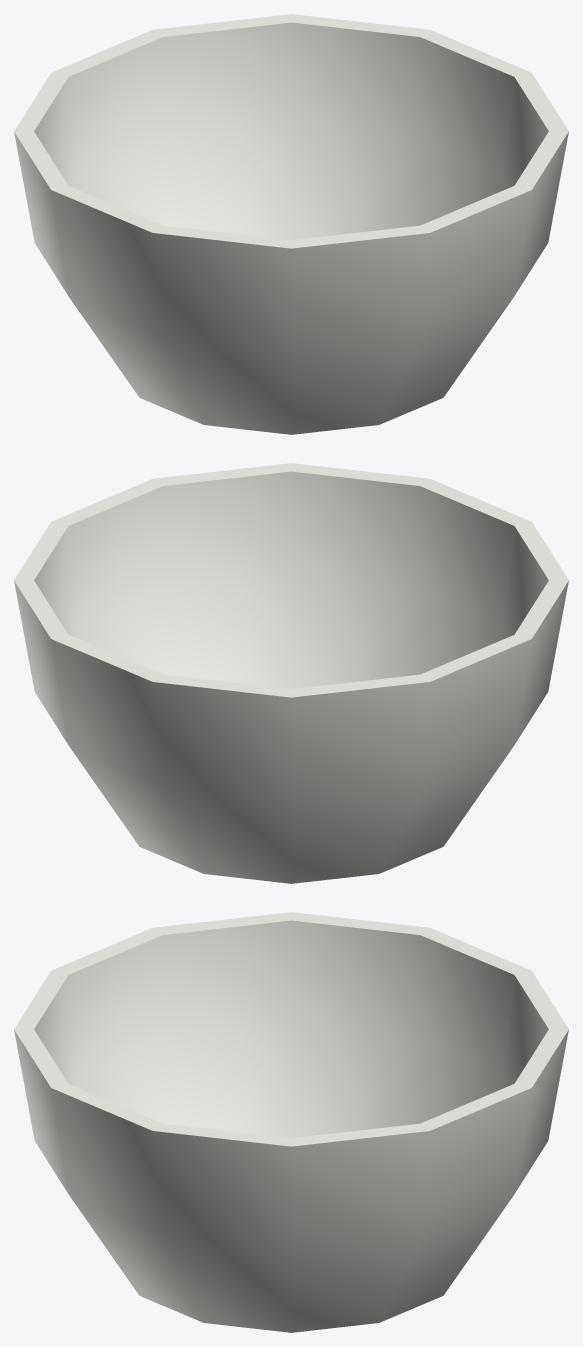
The model's file is SM_Bowl_Cereal_01.fbx.
The picture shows the model from 3 angles, top to bottom: view 1: azimuth 30°, elevation 25°; view 2: azimuth 150°, elevation 25°; view 3: azimuth 270°, elevation 25°; orthographic projection.
Visible parts, largest first — view 1: SM_Bowl_Cereal_01; view 2: SM_Bowl_Cereal_01; view 3: SM_Bowl_Cereal_01.
Boxes of the visible parts, x1,y1,x2,y2 form: SM_Bowl_Cereal_01: (14,14,568,434); SM_Bowl_Cereal_01: (14,463,568,883); SM_Bowl_Cereal_01: (14,912,568,1332).
Size of the model in its own units: 16.65 by 7.59 by 16.65.
